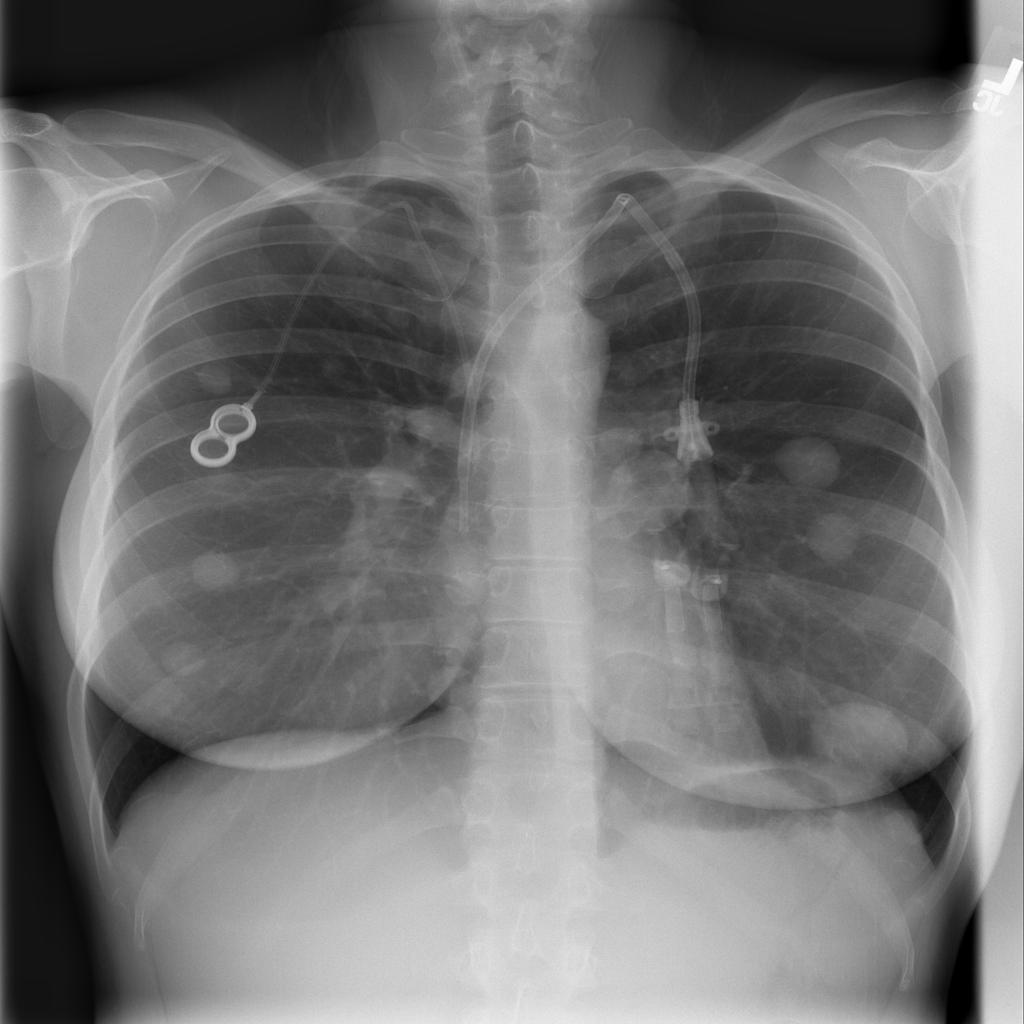nodule: (584, 446, 704, 556), (767, 430, 850, 497), (427, 545, 502, 618), (391, 390, 470, 456), (794, 503, 870, 571), (178, 539, 259, 602), (145, 630, 224, 691), (586, 406, 658, 472), (186, 353, 247, 397), (371, 293, 425, 340), (305, 345, 362, 389)
